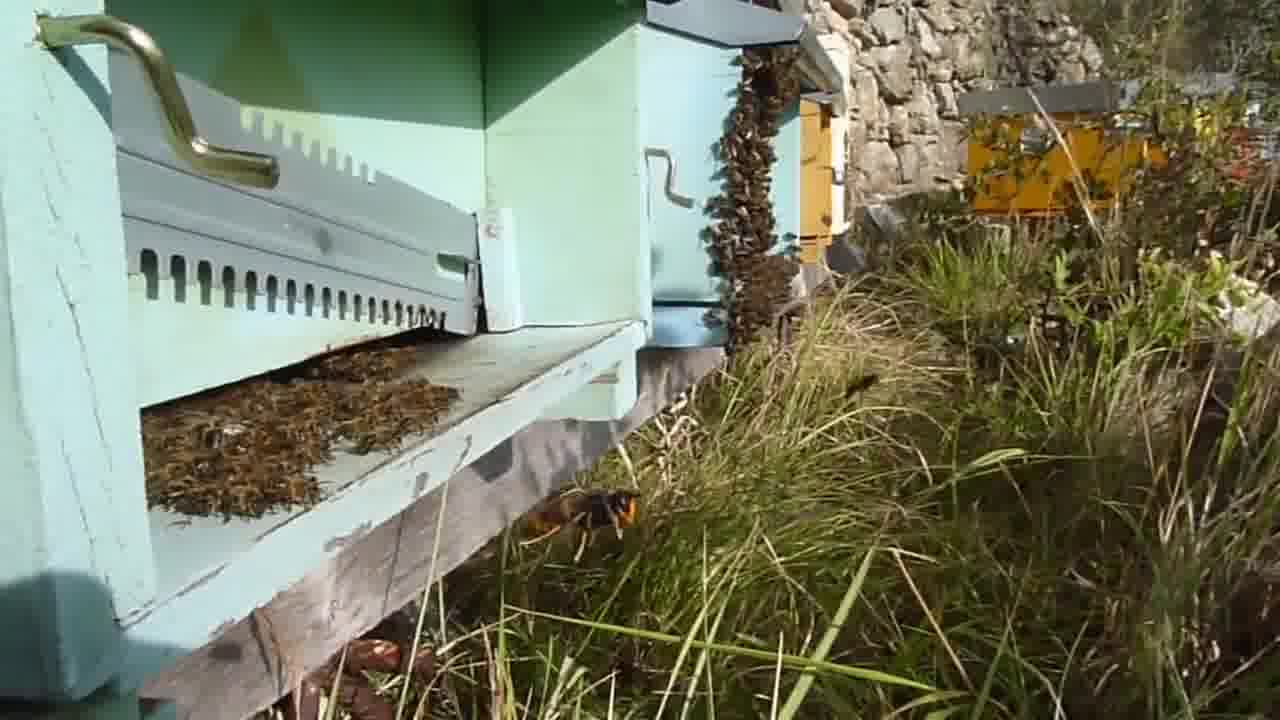bee: (145, 412, 339, 512), (342, 379, 468, 457), (705, 210, 797, 291), (715, 127, 781, 209), (730, 47, 798, 124), (209, 381, 333, 415), (712, 294, 784, 350), (313, 348, 409, 384)
hornet: (522, 472, 646, 552)
